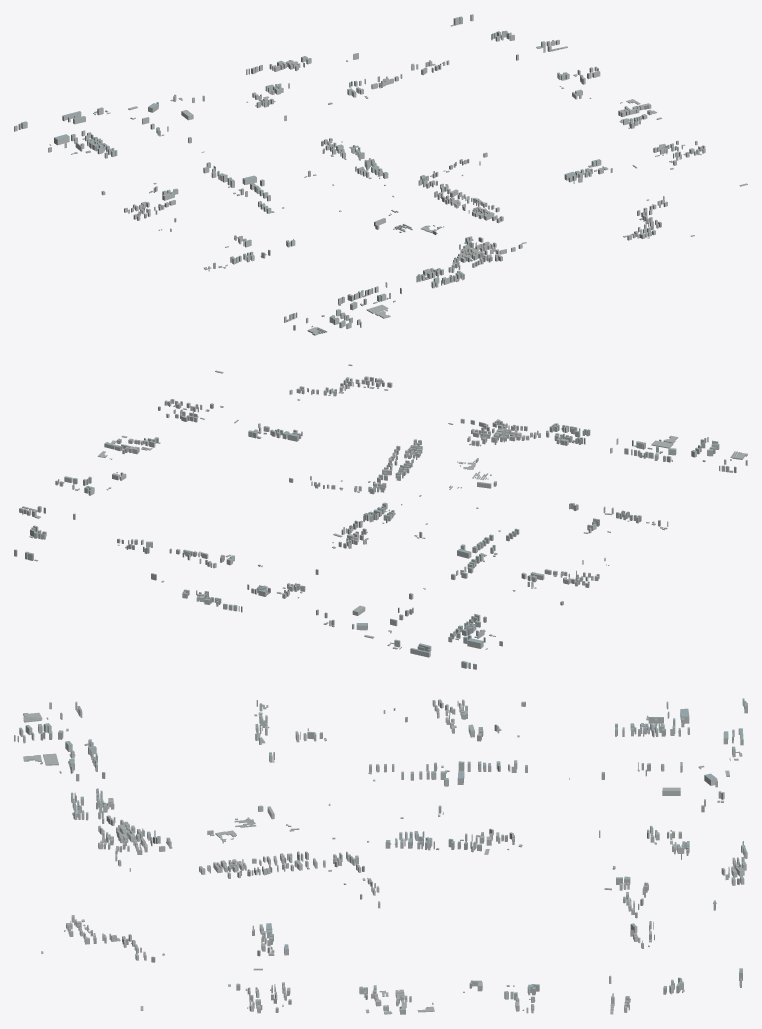
The model's file is far.glb.
3 views of the same model, one above another, from view 1: azimuth 30°, elevation 25°; view 2: azimuth 150°, elevation 25°; view 3: azimuth 270°, elevation 25° (orthographic). The views are drawn at different scales.
Bounding box in the file's own units: 2099 × 26.85 × 2099.
